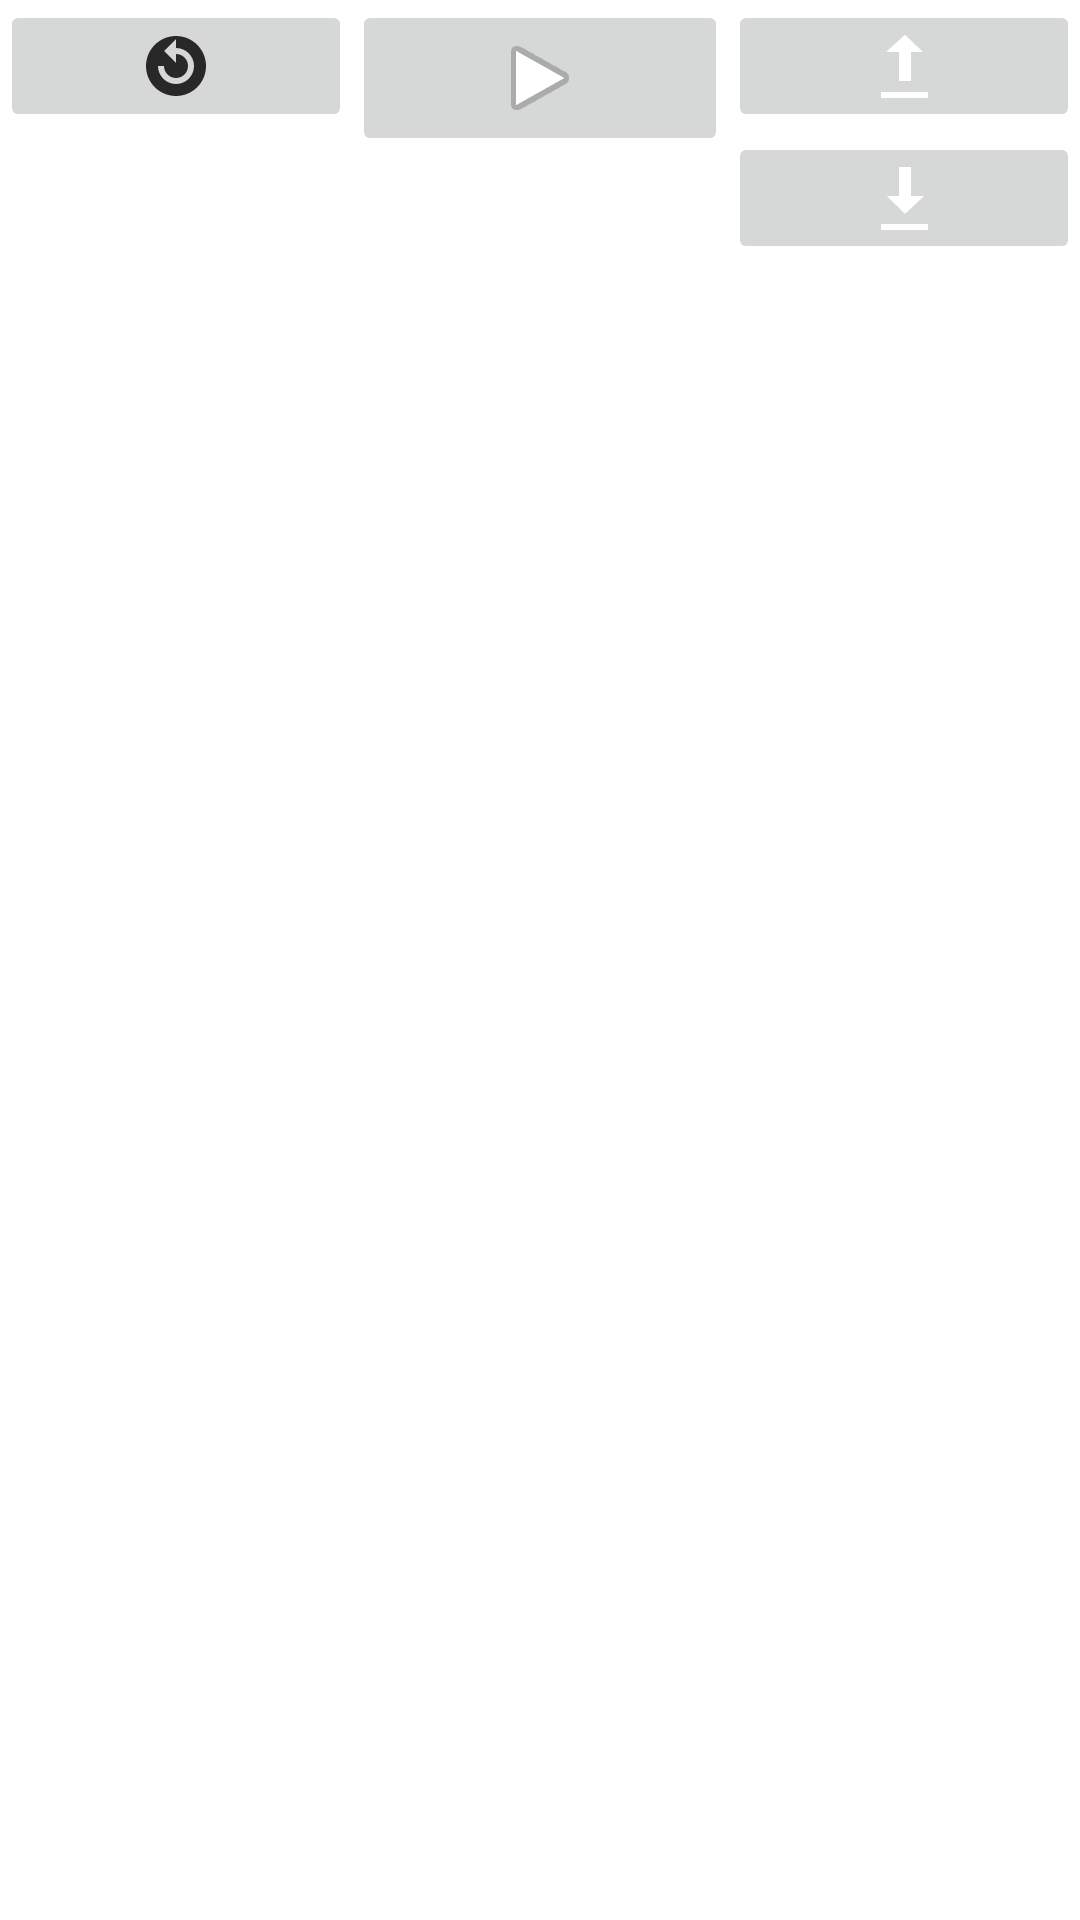

Icon bounding boxes for this 1080*1920 phone screenshot, format (x1, y1, x2, y2):
download: (740, 150, 1068, 246)
play: (364, 18, 716, 138)
replay circle: (12, 18, 340, 114)
upload: (740, 18, 1068, 114)
